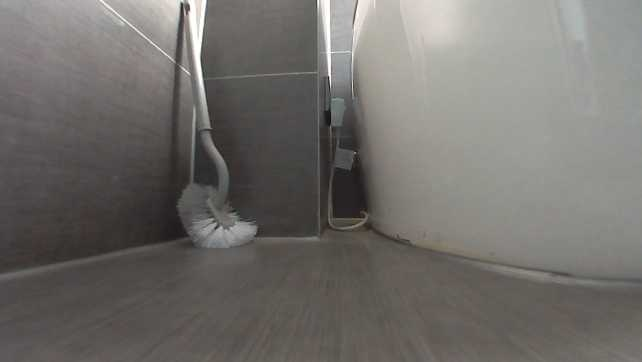toilet: (349, 0, 641, 284)
wire: (325, 130, 370, 233)
